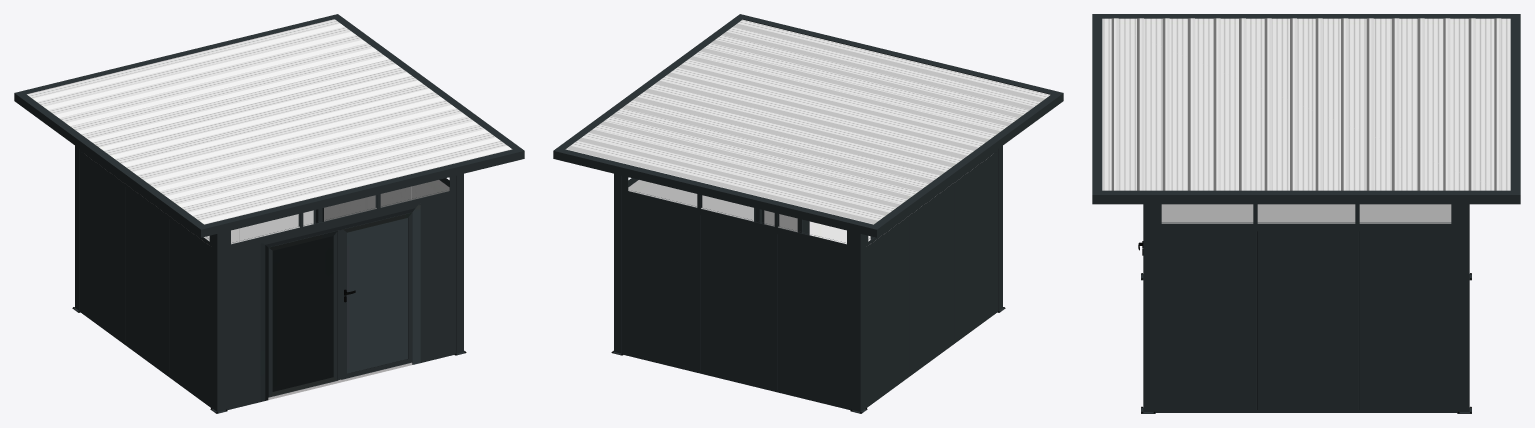
3 views of the same model, side by side, from view 1: azimuth 30°, elevation 25°; view 2: azimuth 150°, elevation 25°; view 3: azimuth 270°, elevation 25° (orthographic). The views are drawn at different scales.
Visible parts, largest first — view 1: priximbattable_net_abris_de_jardin_640005_abri_de_jardin_mim, folha, folha_2, porta_avec_hublot; view 2: priximbattable_net_abris_de_jardin_640005_abri_de_jardin_mim, folha_2; view 3: priximbattable_net_abris_de_jardin_640005_abri_de_jardin_mim.
Part boxes in pixels (left/top/right/bottom): priximbattable_net_abris_de_jardin_640005_abri_de_jardin_mim: left=14, top=14, right=524, bottom=413; folha: left=268, top=229, right=342, bottom=397; folha_2: left=341, top=212, right=412, bottom=379; porta_avec_hublot: left=260, top=203, right=420, bottom=401; priximbattable_net_abris_de_jardin_640005_abri_de_jardin_mim: left=553, top=14, right=1063, bottom=413; folha_2: left=803, top=220, right=873, bottom=244; priximbattable_net_abris_de_jardin_640005_abri_de_jardin_mim: left=1092, top=14, right=1520, bottom=413.
Bounding box in the file's own units: 420 × 259 × 420.
1 material, 1 textured.
